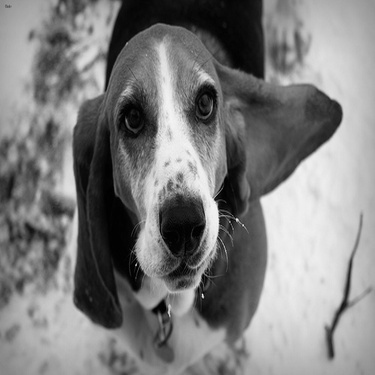dog: (47, 1, 352, 373)
